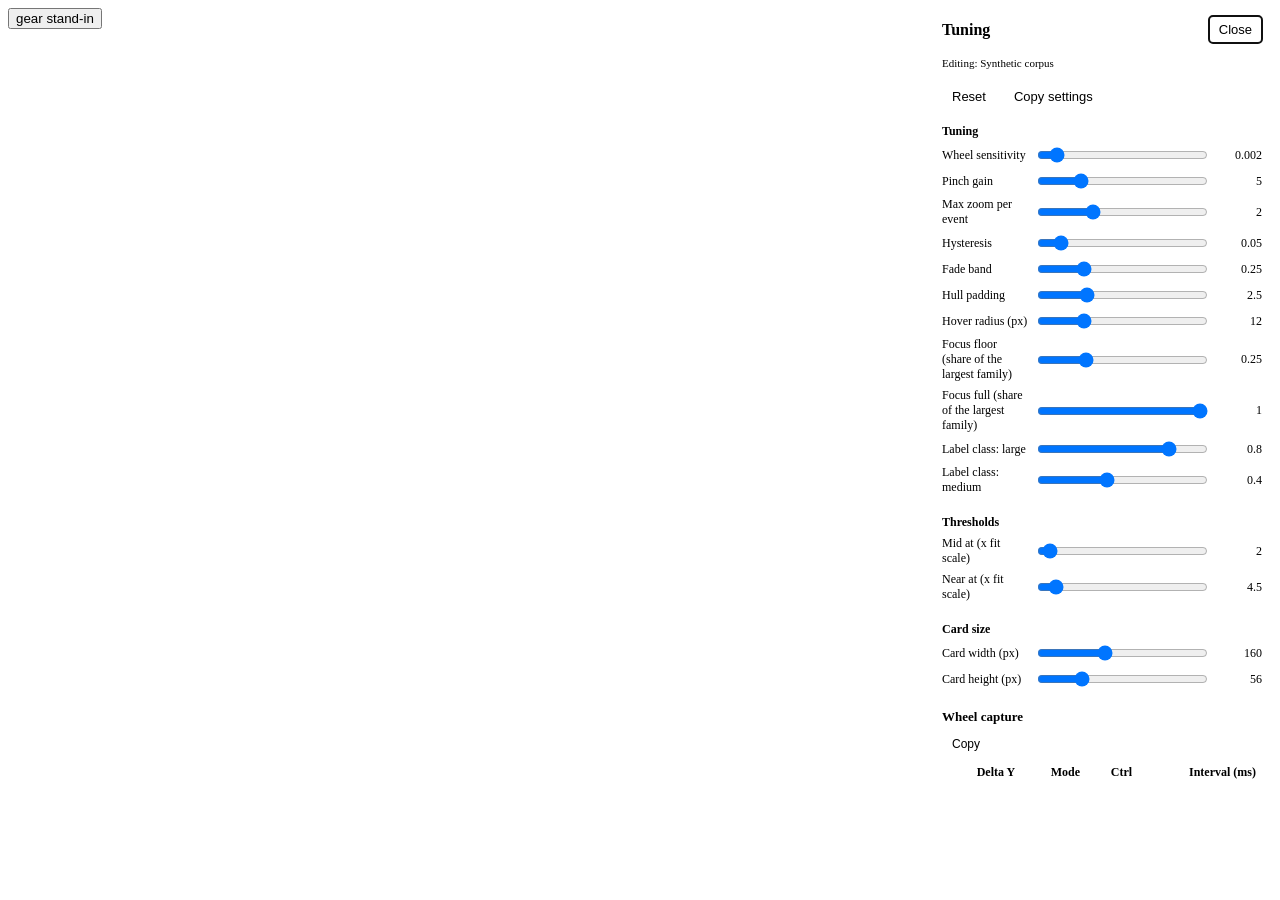
Test: TuningPanel (showcase Task 7) › Copy settings copies an empty display when the values are the defaults and the computed card size
Click the button "Copy settings" at (1053, 96), box [1004,83,1103,110]
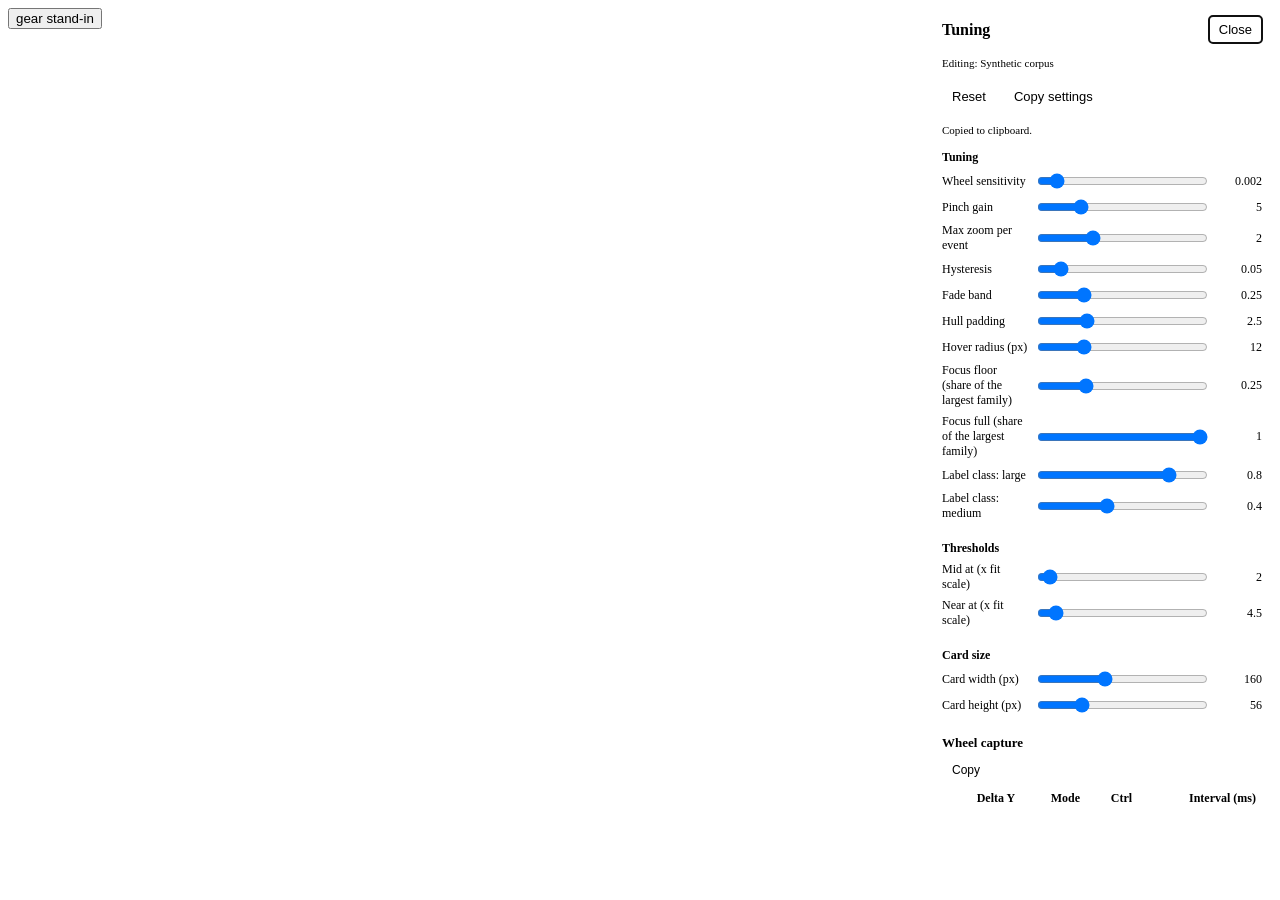
Result: the text "Copied to clipboard." is shown at [942,124,1032,136]
